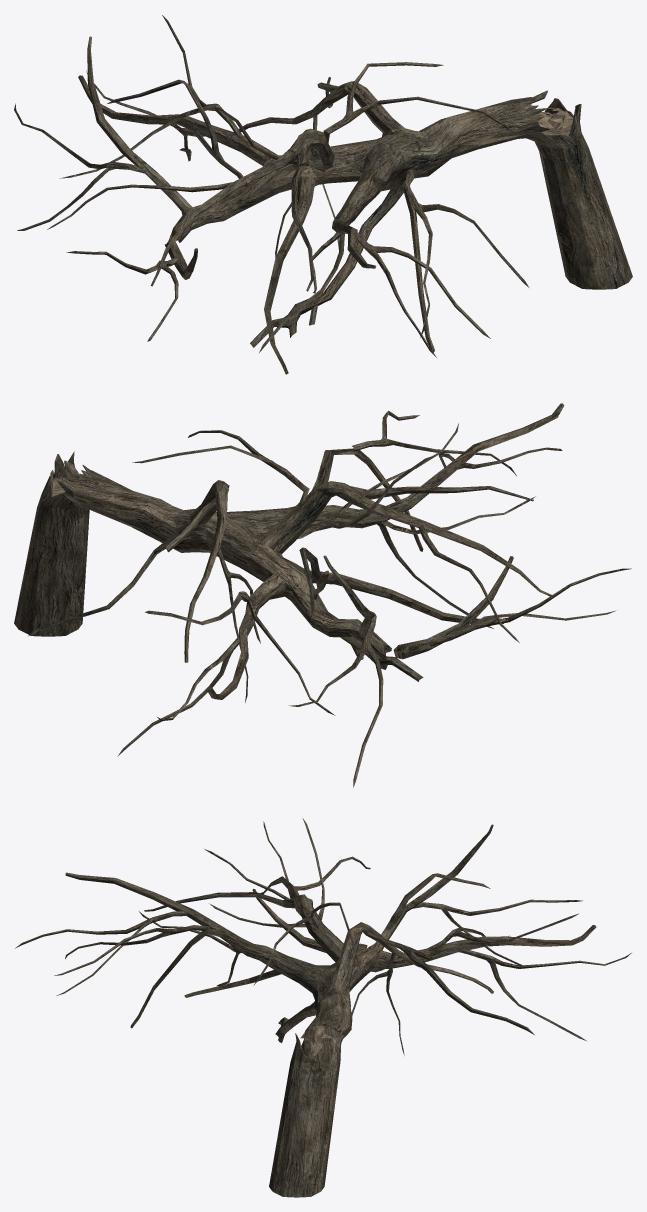
The model's file is 1_TREE_06_1-transformed.glb.
3 views of the same model, one above another, from view 1: azimuth 30°, elevation 25°; view 2: azimuth 150°, elevation 25°; view 3: azimuth 270°, elevation 25° (orthographic). The views are drawn at different scales.
Parts seen in each view (by area): view 1: default; view 2: default; view 3: default.
Boxes of the visible parts, x1,y1,x2,y2 form: default: [14, 15, 632, 374]; default: [14, 403, 631, 787]; default: [15, 818, 631, 1197].
Bounding box in the file's own units: 9.29 × 3.97 × 10.35.
2 materials, 2 textured.
